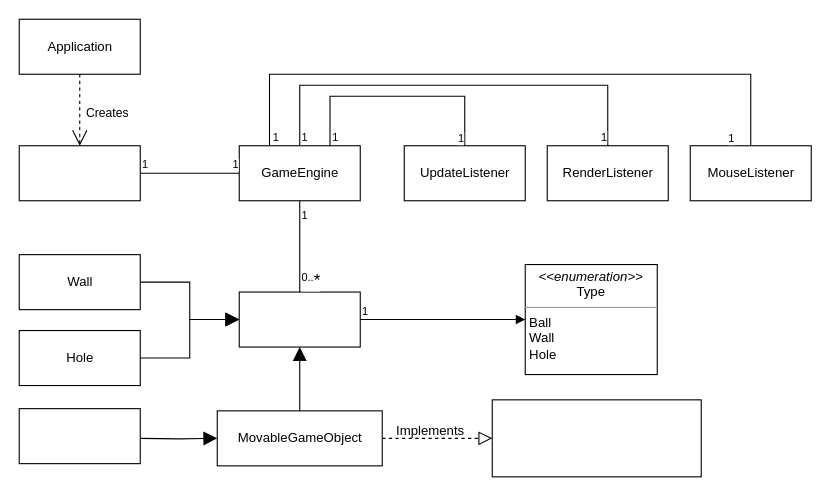
Image size: 831x496. Some labels were removed from this diagram. The centre of each missing label's shape, as x and y in pixels:
<<Interface>> Movable + update(delta: double): void: the point at 596,438
Ball: the point at 79,436
GameObject: the point at 299,319
GameWindow: the point at 79,173
